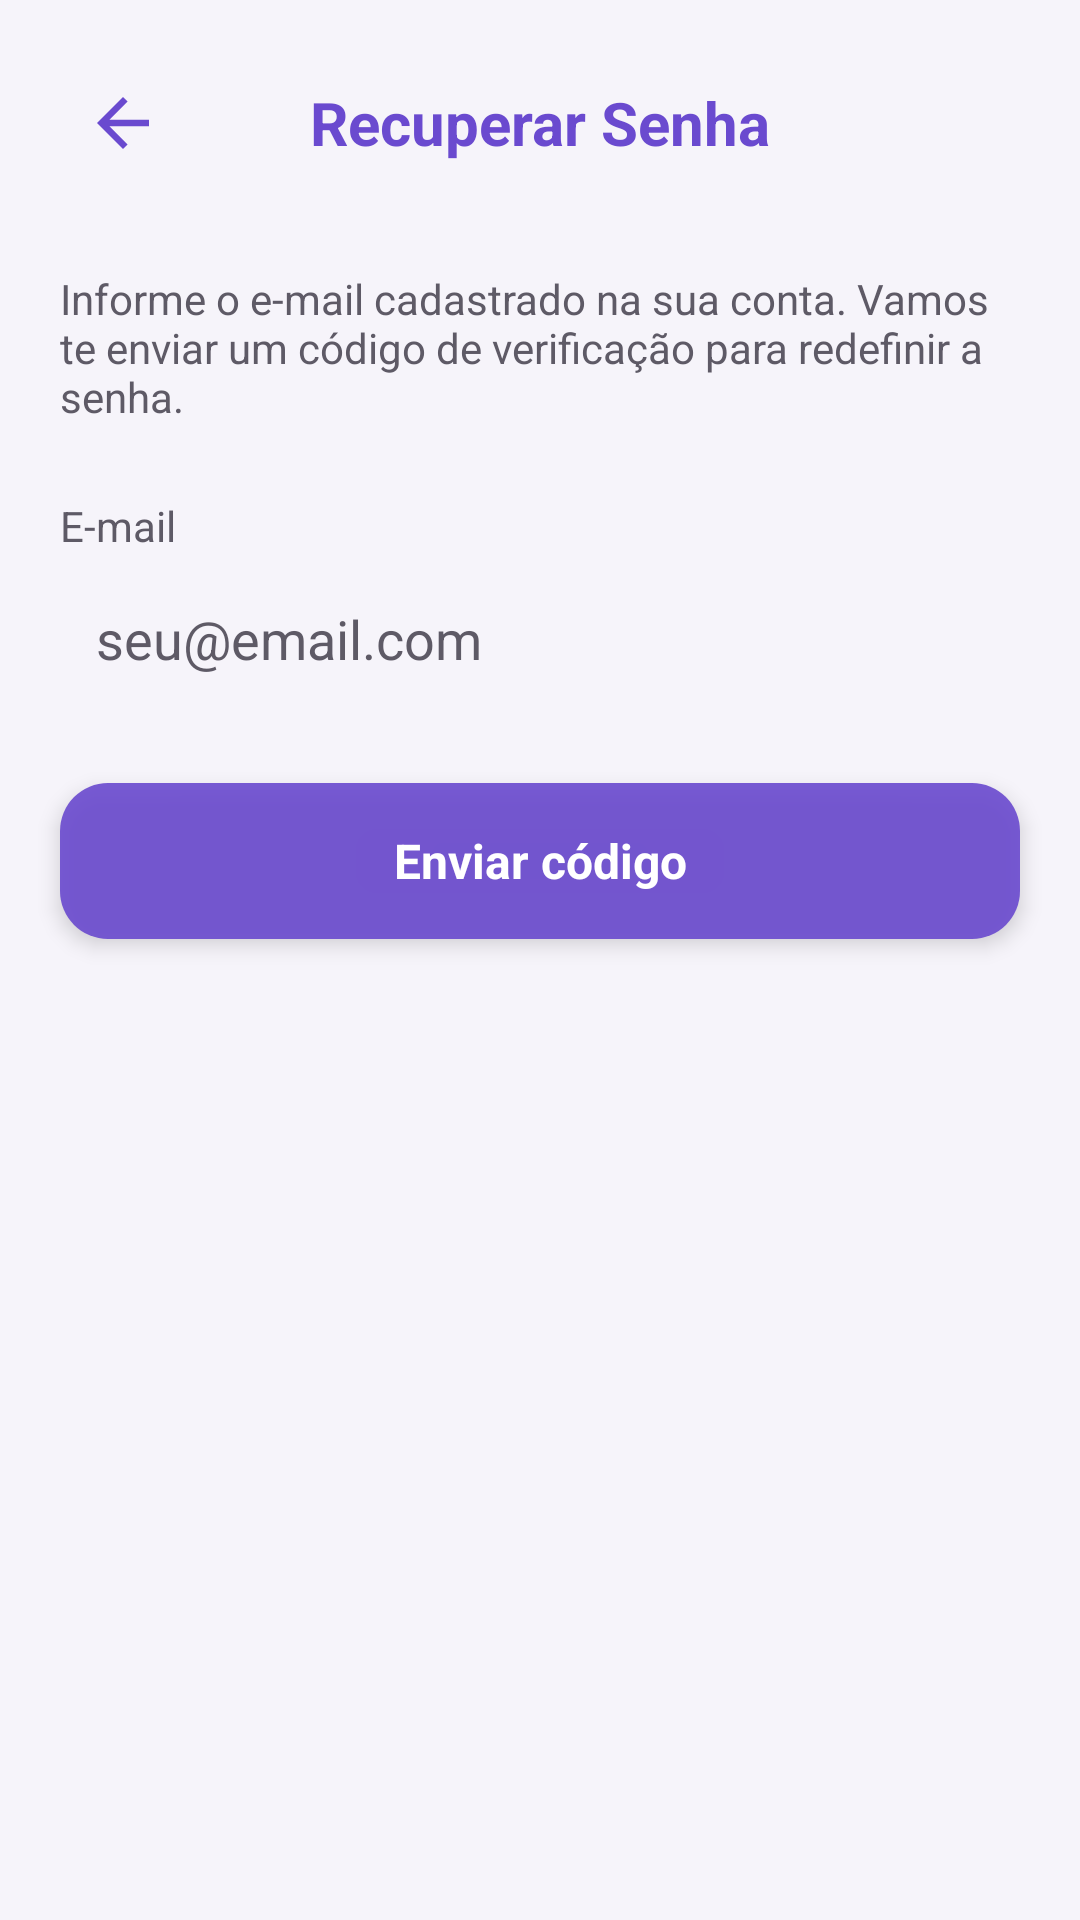

Icons on this 1080px×1920px Android screen, each with the point to tap as (x=x, y=y):
back: (x=123, y=123)
